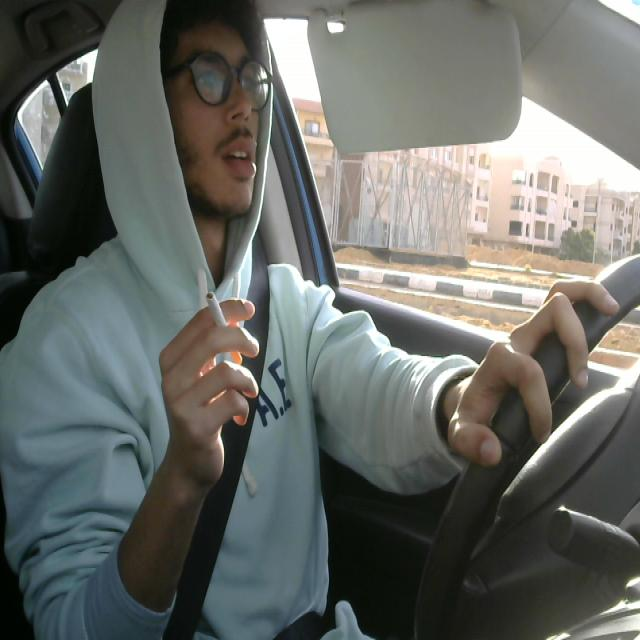smoking: (202, 285, 248, 366)
